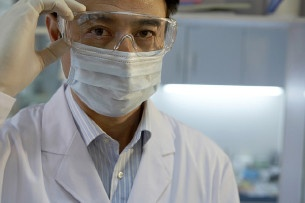Mask: (66, 9, 172, 115)
